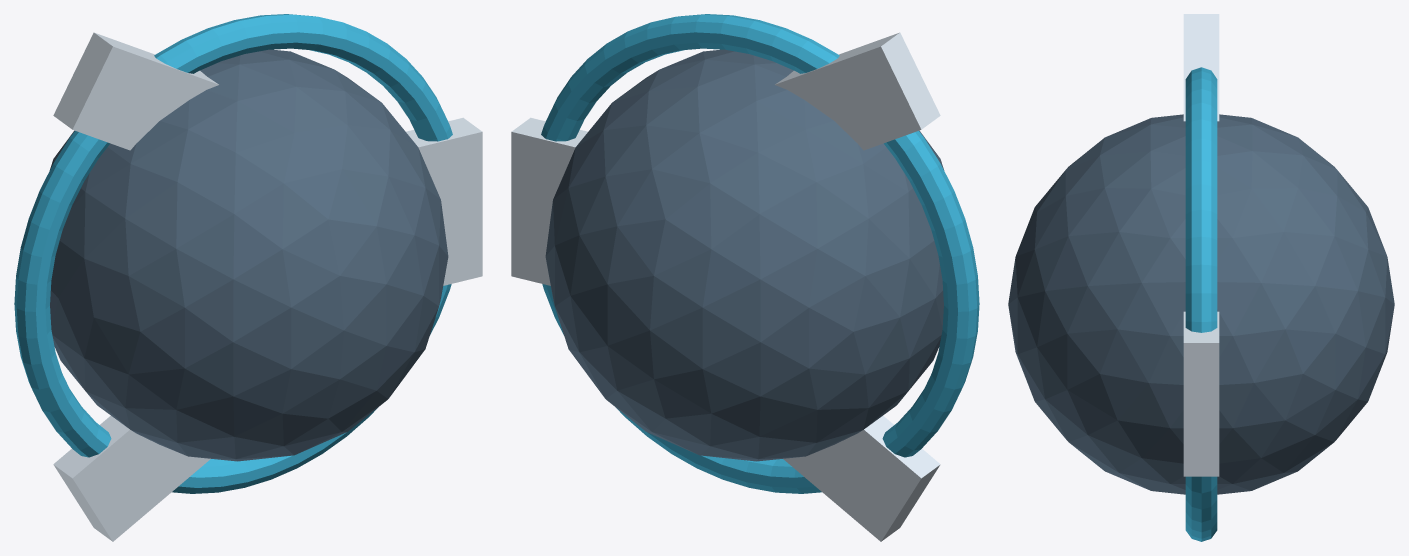
The model's file is vsh-1.glb.
The picture shows the model from 3 angles, left to right: view 1: azimuth 30°, elevation 25°; view 2: azimuth 150°, elevation 25°; view 3: azimuth 270°, elevation 25°; orthographic projection. The views are drawn at different scales.
Parts seen in each view (by area): view 1: Core0, HullRing8, Armor3, Armor4, Armor2, Armor7, Armor5, Armor6; view 2: Core0, HullRing8, Armor3, Armor4, Armor2, Armor7, Armor6, Armor5; view 3: Core0, HullRing8, Armor2, Armor3.
Boxes of the visible parts, <box> form: Core0: <box>49,49,448,461</box>; HullRing8: <box>14,14,452,493</box>; Armor3: <box>53,32,218,150</box>; Armor4: <box>53,416,210,541</box>; Armor2: <box>406,117,482,285</box>; Armor7: <box>74,433,197,540</box>; Armor5: <box>425,132,482,284</box>; Armor6: <box>74,49,216,149</box>; Core0: <box>545,49,944,461</box>; HullRing8: <box>541,14,979,493</box>; Armor3: <box>775,32,940,150</box>; Armor4: <box>783,416,940,541</box>; Armor2: <box>511,117,587,285</box>; Armor7: <box>784,431,920,539</box>; Armor6: <box>777,46,920,148</box>; Armor5: <box>511,132,571,285</box>; Core0: <box>1008,114,1394,494</box>; HullRing8: <box>1185,67,1217,541</box>; Armor2: <box>1183,311,1219,476</box>; Armor3: <box>1183,14,1219,121</box>.
Size of the model in its own units: 1.92 by 1.99 by 1.52.
